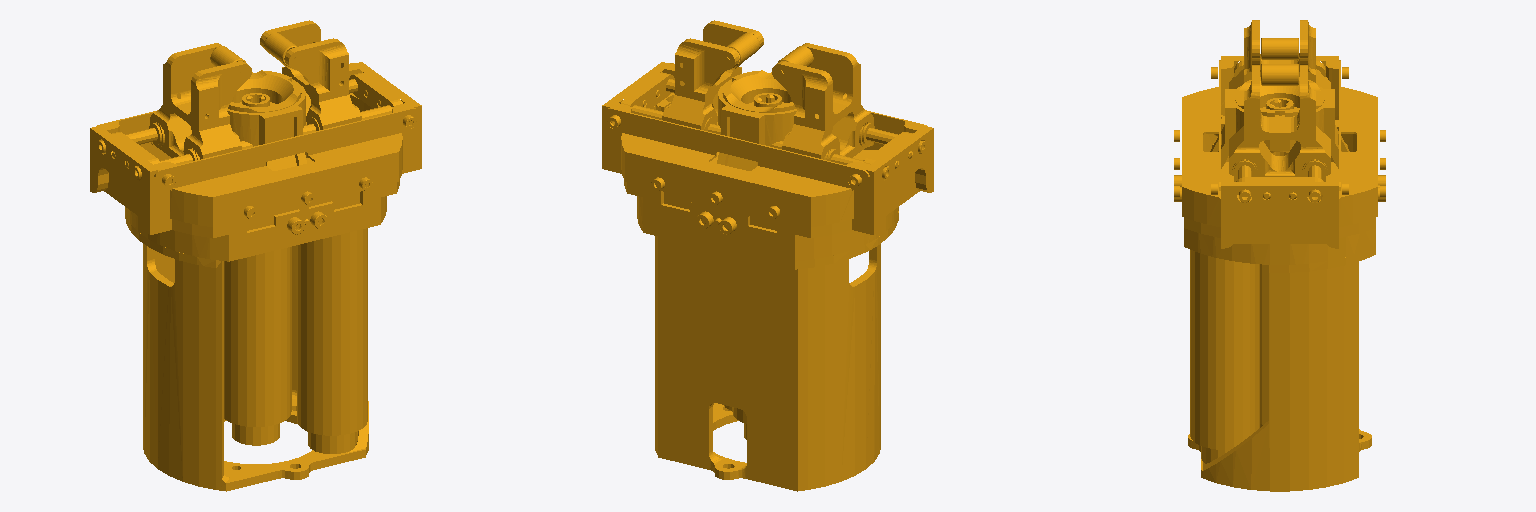
The robot description file, URDF, robot "gripper":
<?xml version="1.0" encoding="utf-8"?>
<!-- This URDF was automatically created by SolidWorks to URDF Exporter! Originally created by Stephen Brawner (brawner@gmail.com) 
     Commit Version: 1.6.0-4-g7f85cfe  Build Version: 1.6.7995.38578
     For more information, please see http://wiki.ros.org/sw_urdf_exporter -->
<robot
  name="gripper">
  <link
    name="base_link">
    <inertial>
      <origin
        xyz="0 0 0"
        rpy="0 0 0" />
      <mass
        value="0" />
      <inertia
        ixx="0"
        ixy="0"
        ixz="0"
        iyy="0"
        iyz="0"
        izz="0" />
    </inertial>
    <visual>
      <origin
        xyz="0 0 0"
        rpy="0 0 0" />
      <geometry>
        <mesh
          filename="package://gripper/meshes/base_link.STL" />
      </geometry>
      <material
        name="">
        <color
          rgba="0.94118 0.67451 0.11765 1" />
      </material>
    </visual>
    <collision>
      <origin
        xyz="0 0 0"
        rpy="0 0 0" />
      <geometry>
        <mesh
          filename="package://gripper/meshes/base_link.STL" />
      </geometry>
    </collision>
  </link>
</robot>

--- Facts derived from the render (not from the file) ---
Views: 3 orthographic renders of the robot side by side, from view 1: azimuth 30°, elevation 25°; view 2: azimuth 150°, elevation 25°; view 3: azimuth 270°, elevation 25°.
Robot: gripper — 1 links, 0 joints (none); root link base_link; default pose: every joint at zero.
Visible links, largest first — view 1: base_link; view 2: base_link; view 3: base_link.
Link boxes in pixels (box(x1,y1,x2,y2)): base_link: box(90, 20, 421, 491); base_link: box(602, 20, 933, 491); base_link: box(1174, 20, 1385, 491).
Bounding box of the posed robot: 0.143 × 0.097 × 0.198 m (x, y, z).
1 mesh visuals loaded from 1 distinct referenced files (1 binary STL).
